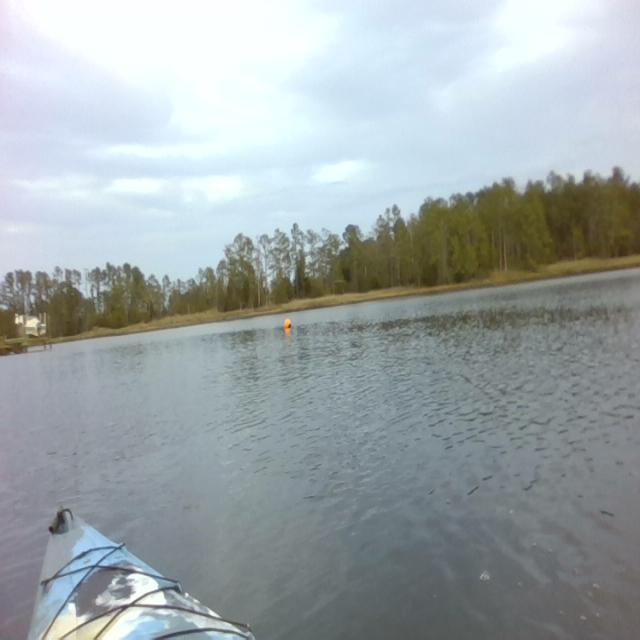Buoy: (284, 317, 292, 331)
